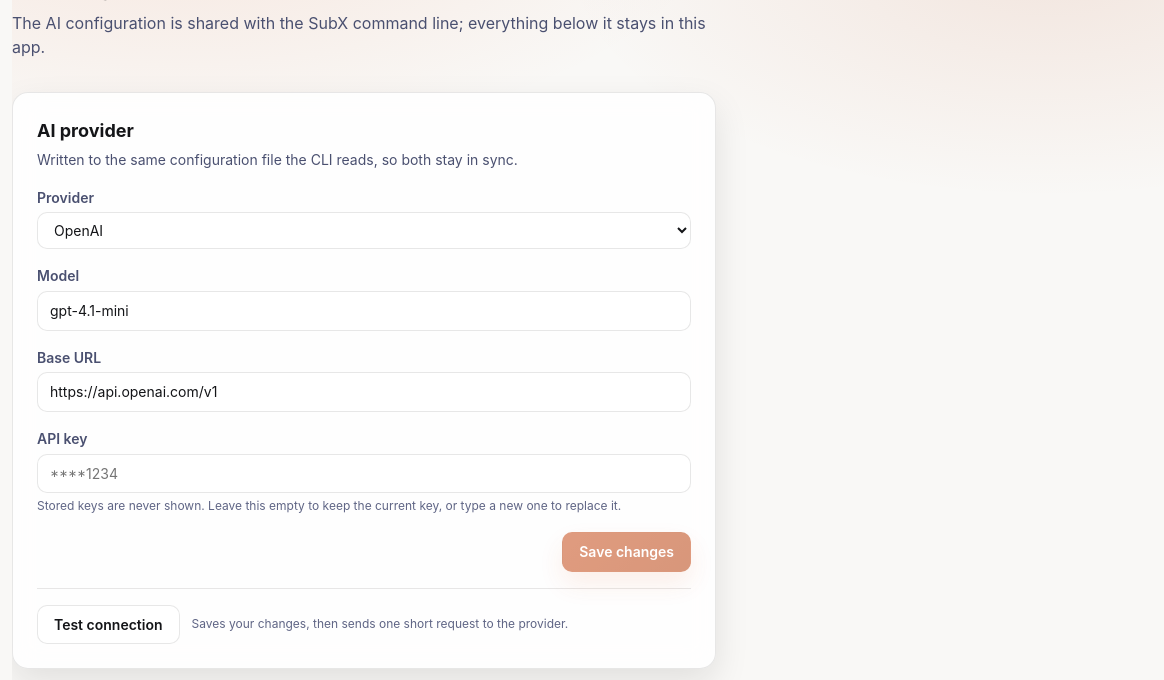
Test: settings screen › reports a successful connection test with its latency
Expected: the field labelled "Model" holds "gpt-4.1-mini", [37,291,691,331]
Click the button "Test connection": (108, 625) [37,605,180,644]
(page scrolled)
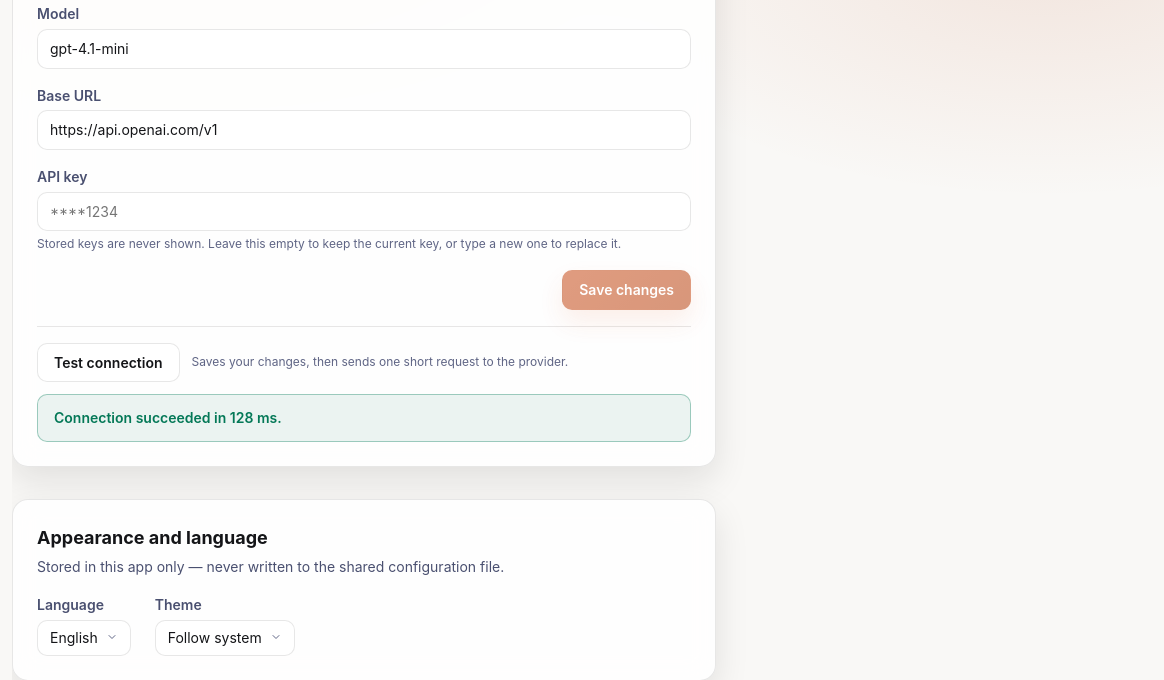
Expected: the text "Connection succeeded in 128 ms." is shown, [37,394,691,442]
